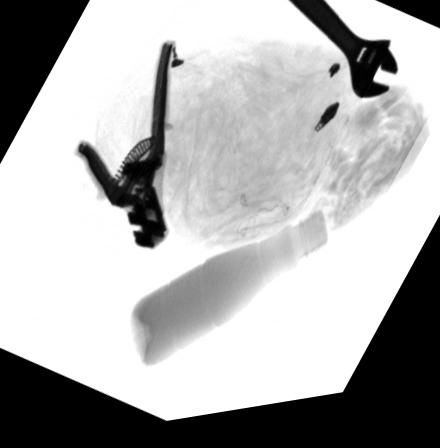Pliers: (72, 46, 176, 255)
Wrench: (279, 0, 401, 111)
